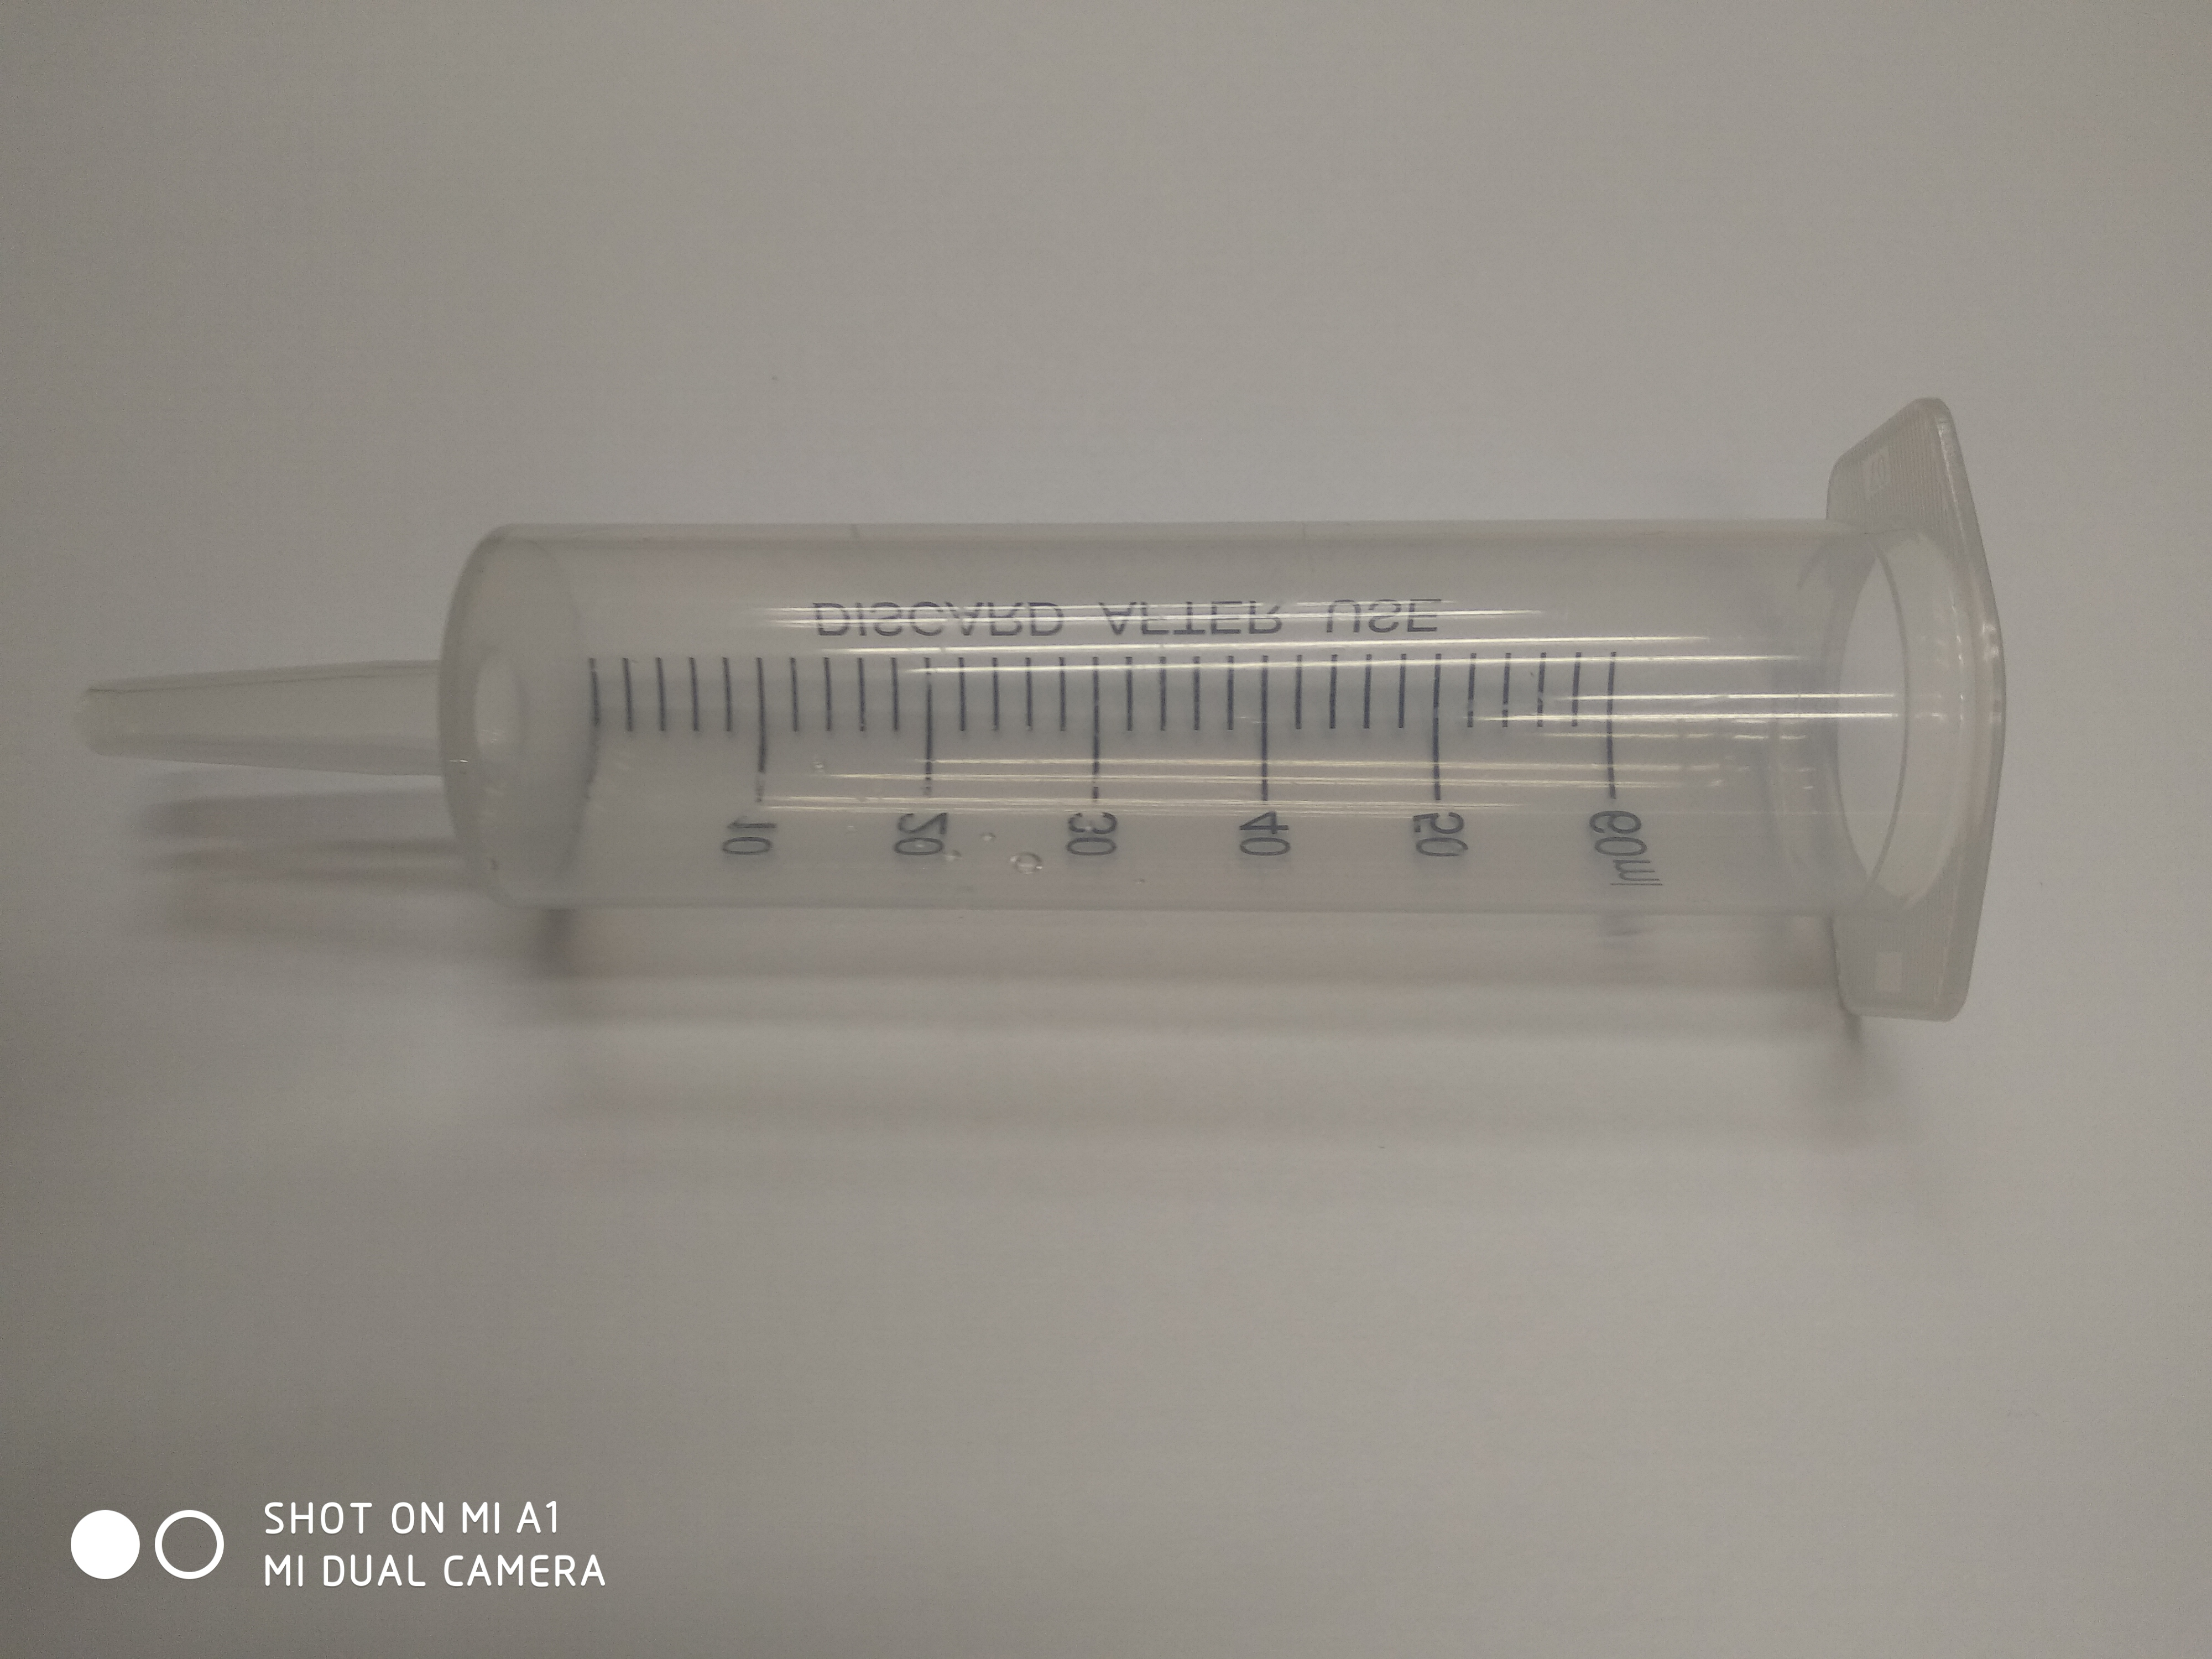syringe: (68, 396, 2013, 1030)
